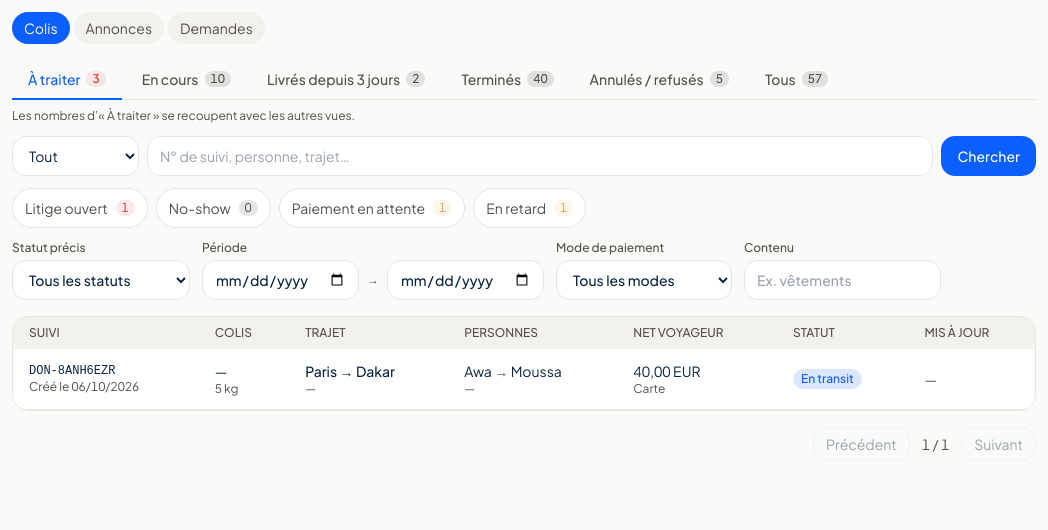
Scenario: /colis : vues rapides et recherche › pickSender_setsScopeAndChip
The image size is (1048, 530).
Type "Aw" into the dropdown with test id "search" at (540, 156), box 147,136 -> 933,176
Wait 250 ms
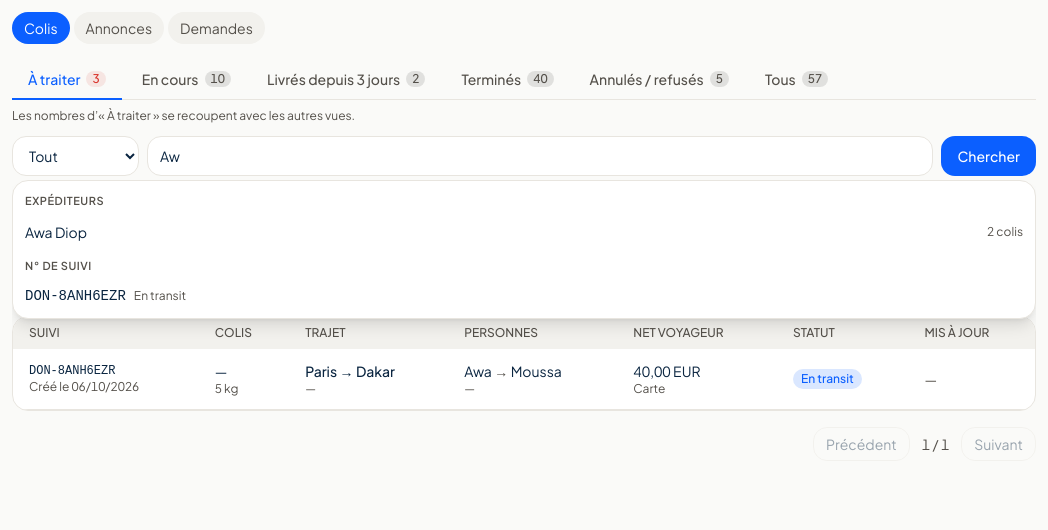
Click the option with test id "suggestion-sender-0" at (56, 232), box 25,222 -> 1023,240
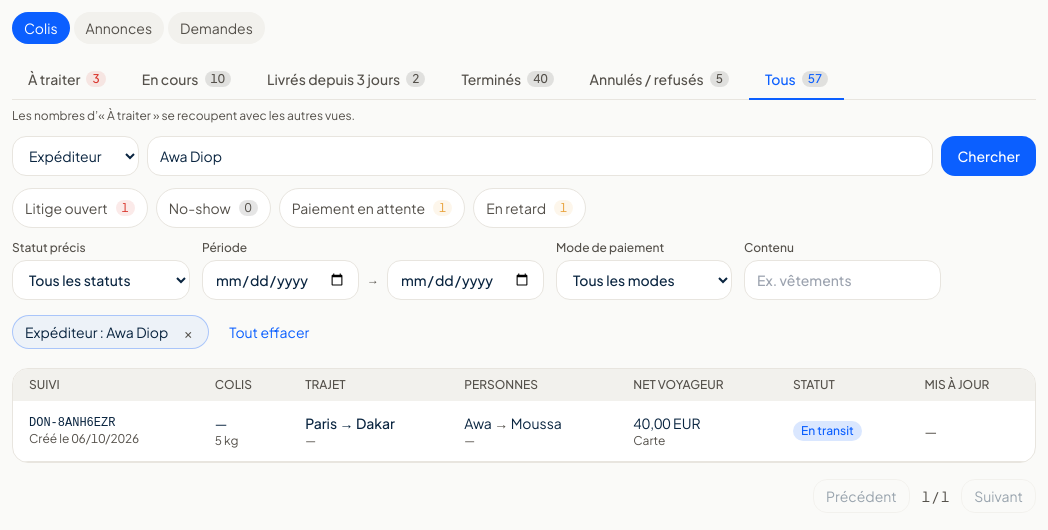
Expected: the element with test id "active-chip-search" shows "Expéditeur : Awa Diop", 25,323 -> 168,341
Expected: the dropdown with test id "search" holds "Awa Diop", 147,136 -> 933,176
